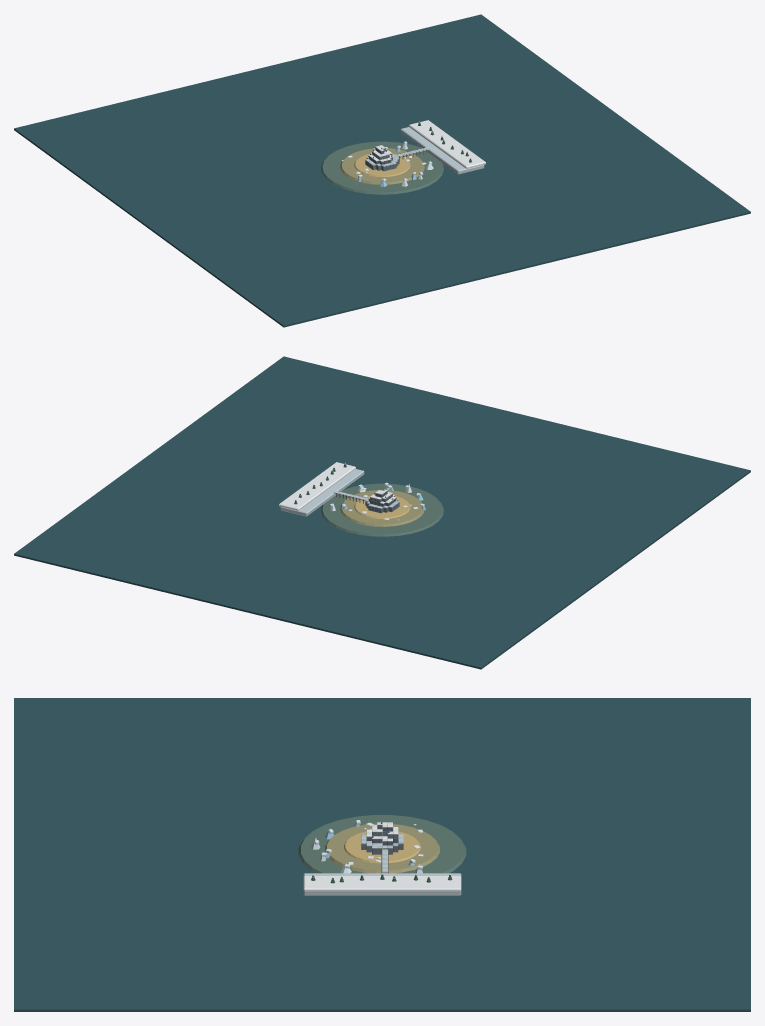
Rendered from island-hoarwood.glb.
3 views of the same model, one above another, from view 1: azimuth 30°, elevation 25°; view 2: azimuth 150°, elevation 25°; view 3: azimuth 270°, elevation 25° (orthographic). The views are drawn at different scales.
Visible parts, largest first — view 1: Hoarwood; view 2: Hoarwood; view 3: Hoarwood.
Part boxes in pixels (box(x1,y1,x2,y2)): Hoarwood: box(14, 14, 750, 327); Hoarwood: box(14, 356, 750, 669); Hoarwood: box(14, 698, 750, 1011).
Bounding box in the file's own units: 140 × 7.2 × 140.
